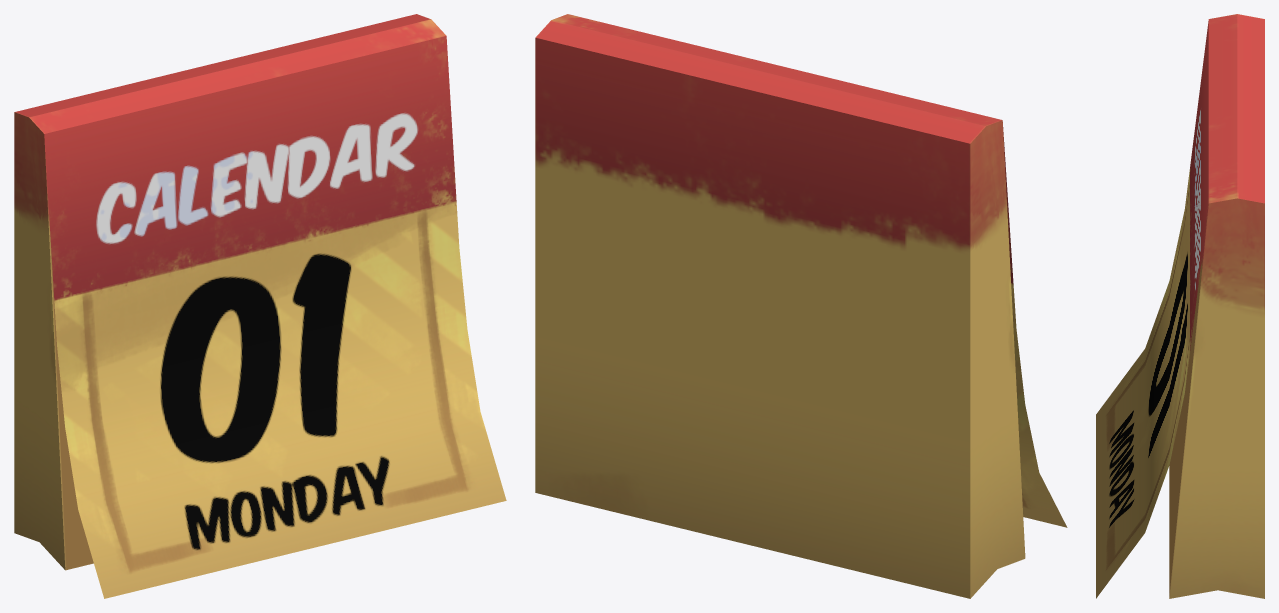
The model's file is SM_Calendar.glb.
The picture shows the model from 3 angles, left to right: view 1: azimuth 30°, elevation 25°; view 2: azimuth 150°, elevation 25°; view 3: azimuth 270°, elevation 25°; orthographic projection. The views are drawn at different scales.
Visible parts, largest first — view 1: SM_Calendar; view 2: SM_Calendar; view 3: SM_Calendar.
Boxes of the visible parts, x1,y1,x2,y2 form: SM_Calendar: [14, 14, 506, 598]; SM_Calendar: [535, 14, 1067, 598]; SM_Calendar: [1096, 14, 1264, 598].
Size of the model in its own units: 0.6204 by 0.6284 by 0.2401.
1 material, 1 textured.
